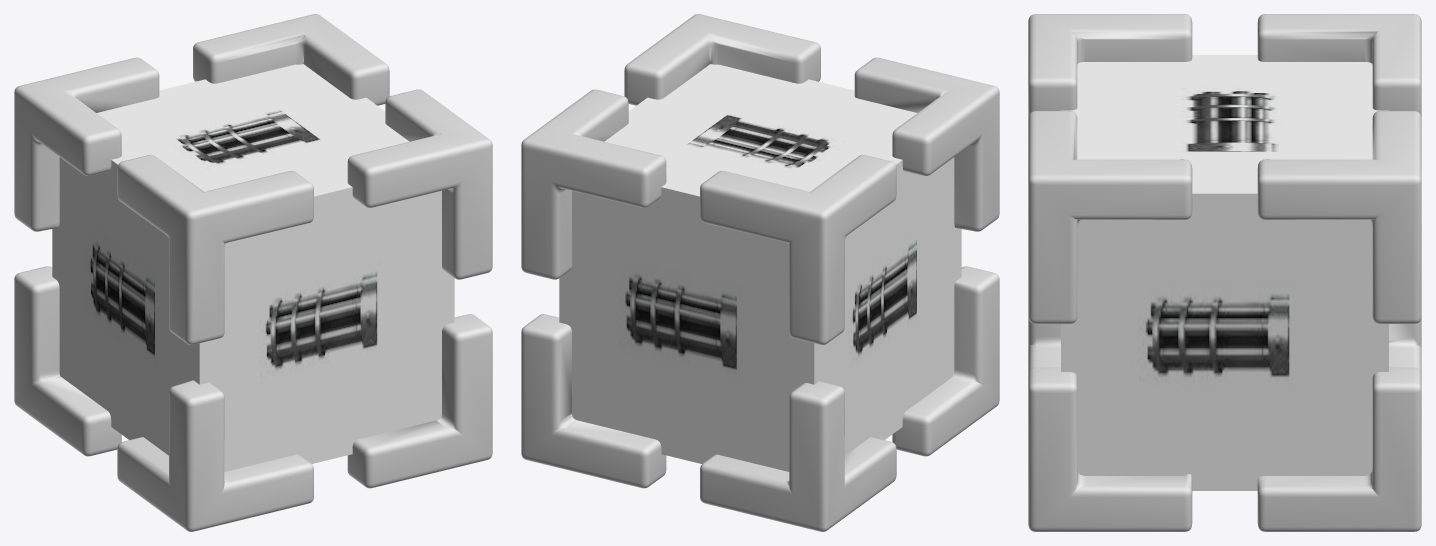
File: Gatling.FBX
3 renders of one model, left to right at view 1: azimuth 30°, elevation 25°; view 2: azimuth 150°, elevation 25°; view 3: azimuth 270°, elevation 25°, orthographic. The views are drawn at different scales.
Parts seen in each view (by area): view 1: MainBox, Corner005, Corner008, Corner001, Corner011, Corner007, Corner006, Corner010; view 2: MainBox, Corner011, Corner006, Corner010, Corner005, Corner002, Corner008, Corner001; view 3: MainBox, Corner001, Corner010, Corner007, Corner002, Corner005, Corner011, Corner006, Corner008.
Part boxes in pixels (x1,y1,x2,y2): MainBox: (52, 64, 454, 471); Corner005: (117, 154, 313, 344); Corner008: (117, 380, 313, 531); Corner001: (347, 89, 492, 279); Corner011: (14, 57, 159, 231); Corner007: (347, 314, 492, 488); Corner006: (14, 266, 121, 456); Corner010: (193, 14, 389, 105); MainBox: (559, 64, 961, 471); Corner011: (700, 154, 896, 344); Corner006: (700, 381, 896, 531); Corner010: (521, 89, 666, 279); Corner005: (854, 57, 999, 231); Corner002: (521, 314, 666, 488); Corner008: (892, 266, 999, 456); Corner001: (624, 14, 820, 105); MainBox: (1061, 55, 1388, 490); Corner001: (1028, 111, 1192, 323); Corner010: (1257, 111, 1421, 323); Corner007: (1028, 367, 1192, 531); Corner002: (1257, 367, 1421, 531); Corner005: (1028, 14, 1192, 117); Corner011: (1257, 14, 1421, 117); Corner006: (1389, 317, 1421, 373); Corner008: (1028, 317, 1060, 373).
Bounding box in the file's own units: 120 × 120 × 120.
1 material, 1 textured.
